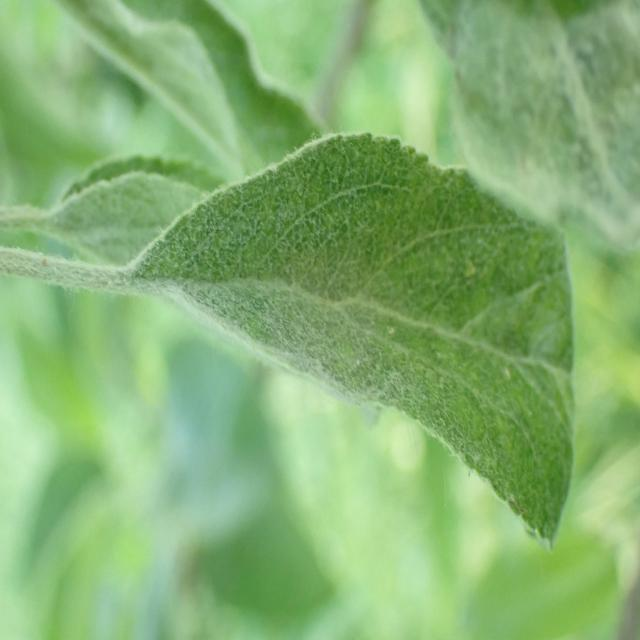Powdery_mildew: (117, 136, 579, 544), (402, 0, 640, 276), (47, 0, 335, 174), (27, 141, 280, 268)
